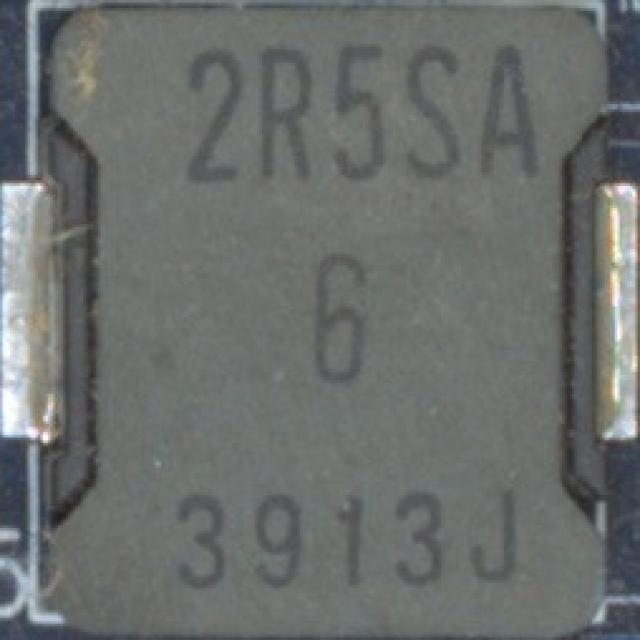inductor F1: (28, 2, 629, 640)
